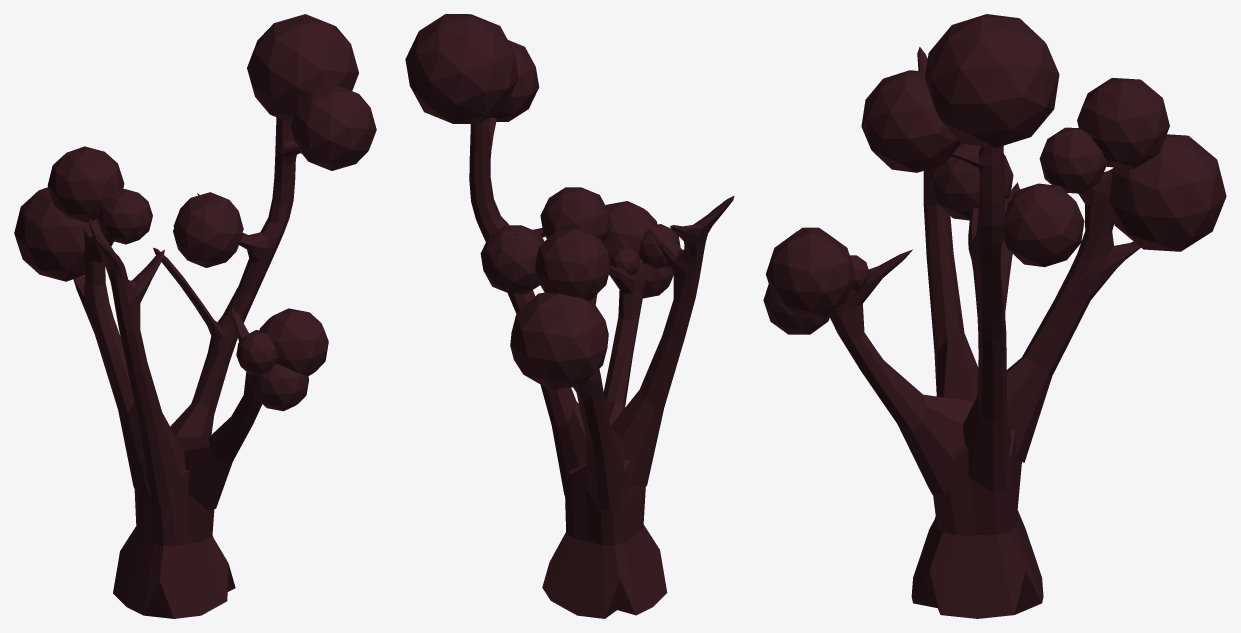
Rendered from tree_005_cut.fbx.
The picture shows the model from 3 angles, left to right: view 1: azimuth 30°, elevation 25°; view 2: azimuth 150°, elevation 25°; view 3: azimuth 270°, elevation 25°; orthographic projection. The views are drawn at different scales.
Visible parts, largest first — view 1: tree003UpperPart, tree003LowerPart; view 2: tree003UpperPart, tree003LowerPart; view 3: tree003UpperPart, tree003LowerPart.
Boxes of the visible parts, box(x1,y1,x2,y2) form: tree003UpperPart: box(14, 14, 376, 510); tree003LowerPart: box(113, 460, 235, 618); tree003UpperPart: box(405, 14, 734, 510); tree003LowerPart: box(542, 459, 667, 618); tree003UpperPart: box(763, 14, 1226, 495); tree003LowerPart: box(911, 429, 1043, 618).
Bounding box in the file's own units: 428 × 772 × 491.
